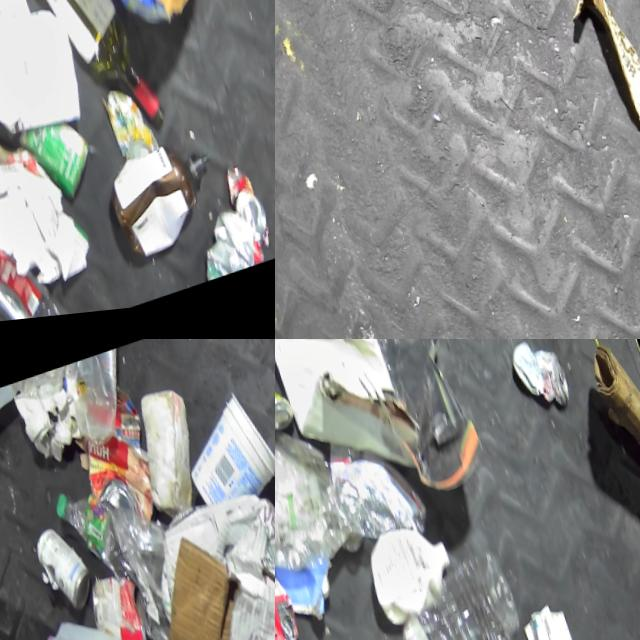can: (7, 117, 95, 217), (25, 519, 95, 622), (178, 212, 253, 291), (505, 342, 572, 430), (77, 566, 153, 640), (93, 87, 152, 172), (92, 475, 138, 531), (221, 195, 261, 252), (275, 571, 301, 640), (275, 362, 295, 444)
milk_jug: (354, 522, 459, 638), (31, 597, 167, 640)
non_white_jug: (275, 484, 336, 640)
plastic_bottle: (360, 550, 525, 640), (0, 160, 66, 331), (48, 480, 122, 588)
